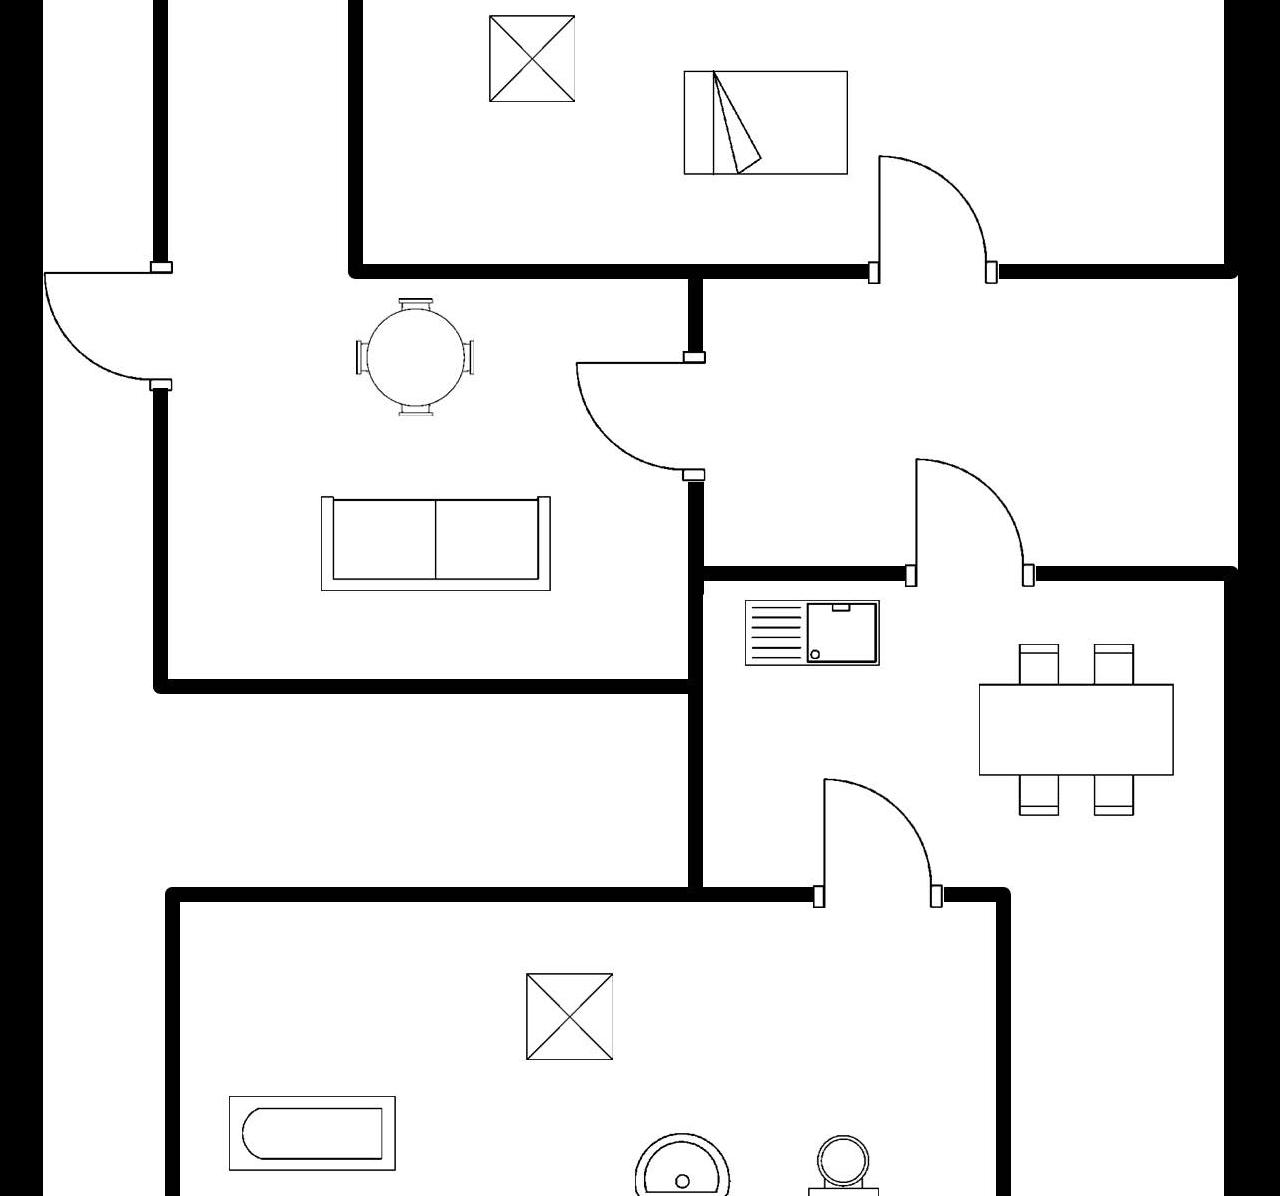bed: (672, 61, 857, 188)
dining_table: (968, 635, 1183, 823)
round_table: (346, 290, 484, 426)
sink: (735, 595, 886, 676)
sofa: (308, 487, 563, 602)
toilet: (798, 1134, 886, 1196)
tub: (219, 1085, 403, 1181)
